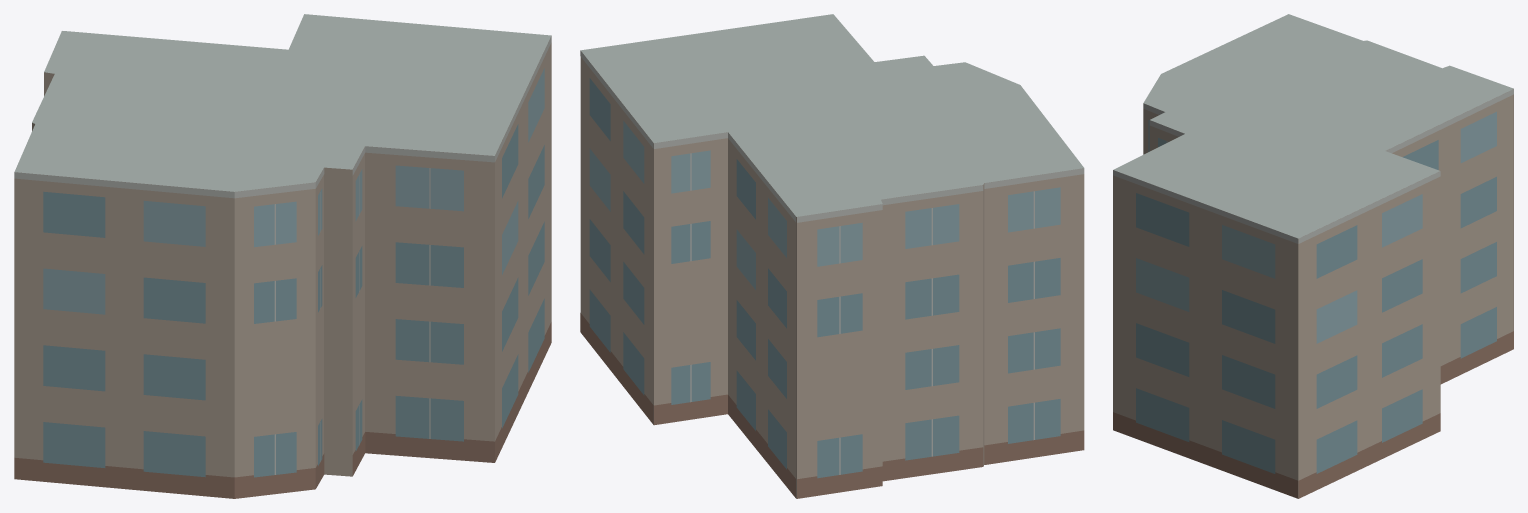
The model's file is survey-upis-33016670.glb.
3 views of the same model, side by side, from view 1: azimuth 30°, elevation 25°; view 2: azimuth 150°, elevation 25°; view 3: azimuth 270°, elevation 25° (orthographic). The views are drawn at different scales.
Parts seen in each view (by area): view 1: survey-upis-33016670.tmp; view 2: survey-upis-33016670.tmp; view 3: survey-upis-33016670.tmp.
Part boxes in pixels (left/top/right/bottom): survey-upis-33016670.tmp: left=14, top=14, right=551, bottom=498; survey-upis-33016670.tmp: left=580, top=14, right=1084, bottom=498; survey-upis-33016670.tmp: left=1113, top=14, right=1513, bottom=498.
Size of the model in its own units: 21.48 by 11.6 by 16.2.
